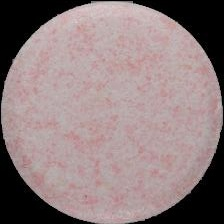53808-0913: (0, 0, 224, 224)
